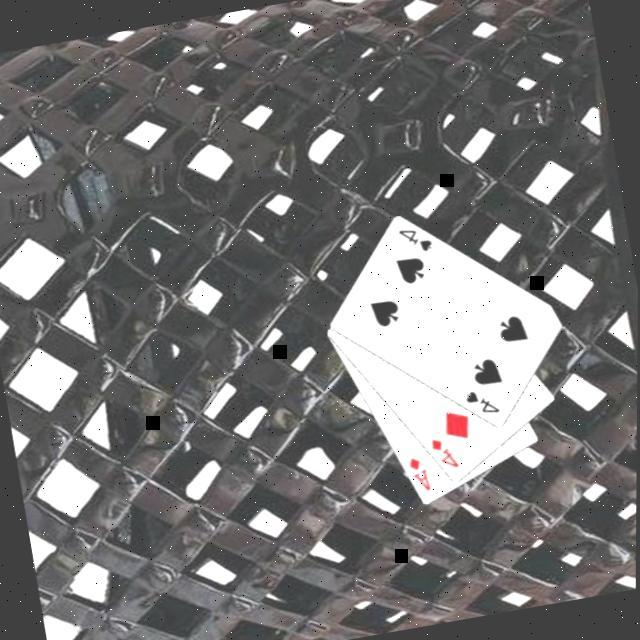4D: (428, 432, 464, 475)
4S: (463, 384, 506, 422), (396, 221, 438, 259)
AD: (406, 451, 437, 497)
